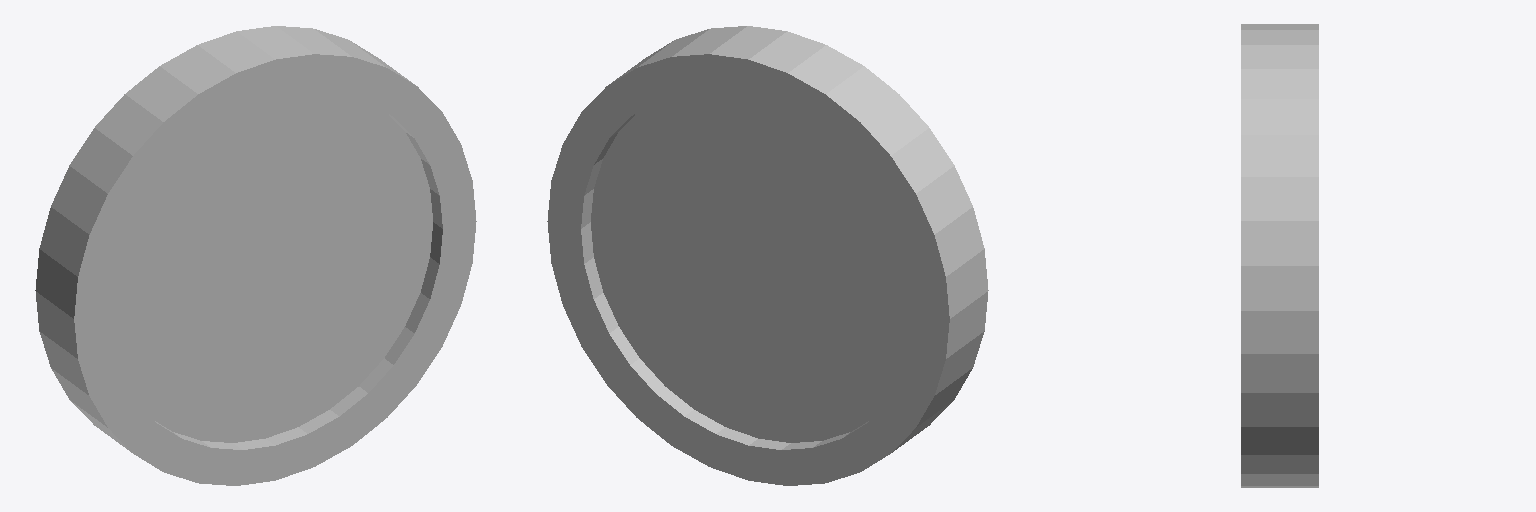
Rendered from Coin.obj.
3 renders of one model, left to right at view 1: azimuth 30°, elevation 25°; view 2: azimuth 150°, elevation 25°; view 3: azimuth 270°, elevation 25°, orthographic.
Parts seen in each view (by area): view 1: Cylinder; view 2: Cylinder; view 3: Cylinder.
Boxes of the visible parts, box(x1,y1,x2,y2) form: Cylinder: box(35, 26, 476, 485); Cylinder: box(547, 26, 988, 485); Cylinder: box(1241, 24, 1318, 487).
Bounding box in the file's own units: 2.4 × 2.4 × 0.4.